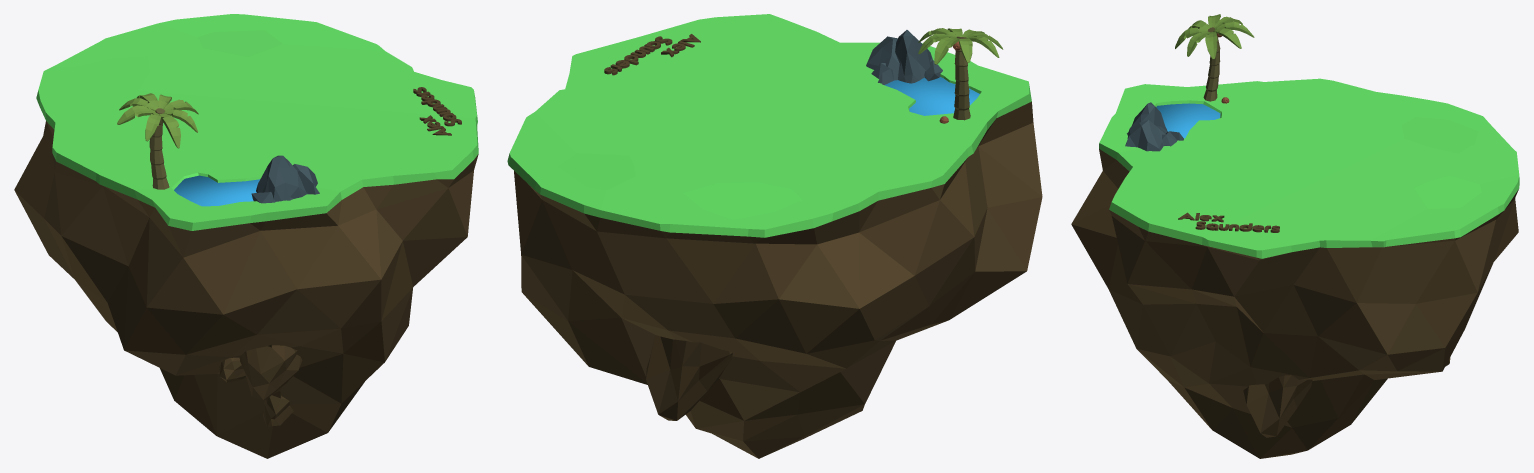
File: alxislandv3.glb
3 renders of one model, left to right at view 1: azimuth 30°, elevation 25°; view 2: azimuth 150°, elevation 25°; view 3: azimuth 270°, elevation 25°, orthographic. The views are drawn at different scales.
Parts seen in each view (by area): view 1: ISLAND, ROCK3, LEAFS, Liquid Domain, ROCK1, TREE, ROCK6, Text.001, ROCK4; view 2: ISLAND, ROCK5, Liquid Domain, LEAFS, ROCK1, TREE, ROCK2, Text.001; view 3: ISLAND, ROCK5.001, LEAFS, Liquid Domain, ROCK2, TREE, Text.001, ROCK1.
Part boxes in pixels (x1,y1,x2,y2): ISLAND: (14,14,478,458); ROCK3: (239,344,302,399); LEAFS: (117,93,198,148); Liquid Domain: (174,175,259,206); ROCK1: (256,155,307,201); TREE: (149,108,169,189); ROCK6: (263,391,293,427); Text.001: (413,87,461,126); ROCK4: (219,357,245,382); ISLAND: (507,14,1042,458); ROCK5: (646,335,732,420); Liquid Domain: (884,77,979,115); LEAFS: (918,28,1003,64); ROCK1: (895,30,932,83); TREE: (953,36,970,120); ROCK2: (866,36,899,80); Text.001: (604,36,672,75); ISLAND: (1071,78,1519,458); ROCK5.001: (1243,375,1312,437); LEAFS: (1175,14,1254,59); Liquid Domain: (1156,103,1220,138); ROCK2: (1125,120,1165,151); TREE: (1203,27,1220,101); Text.001: (1195,221,1279,232); ROCK1: (1127,102,1167,138).
Size of the model in its own units: 15.63 by 15.39 by 17.06.
